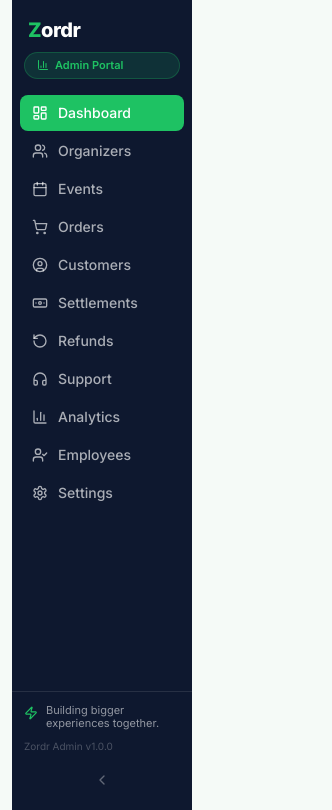
Test: Sidebar › collapse toggle changes aria-label
Click the button named "collapse sidebar": (102, 780) [24, 766, 180, 794]
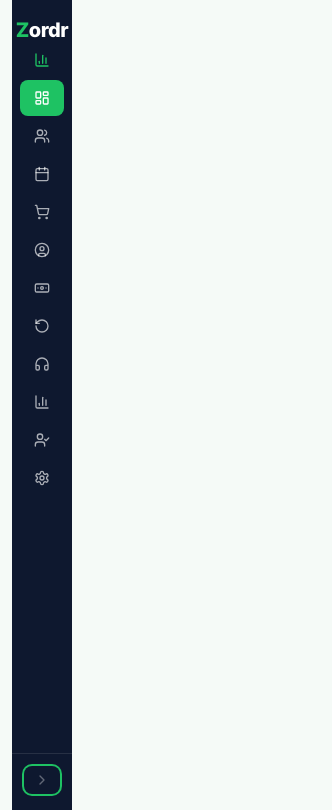
Check: the button named "expand sidebar" is shown, box [24, 766, 60, 794]
